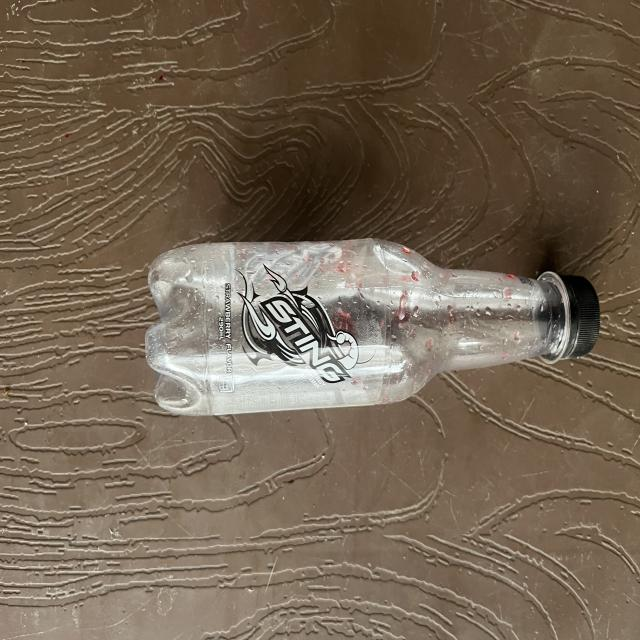REJECT: (149, 240, 596, 426)
